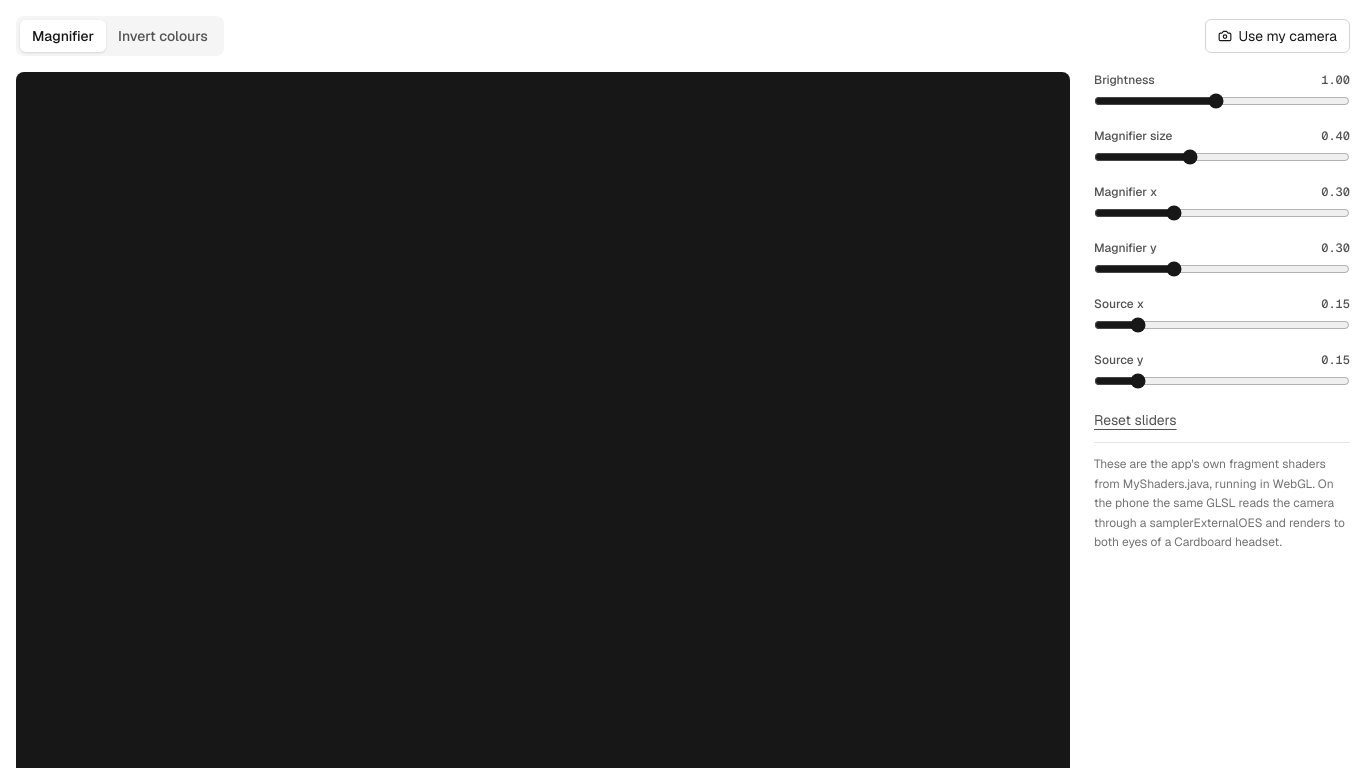
Test: VRVisionDemo › falls back to the sample image when permission is declined
Click the button "Use my camera". click: (1278, 36)
box: [1206,19,1350,53]
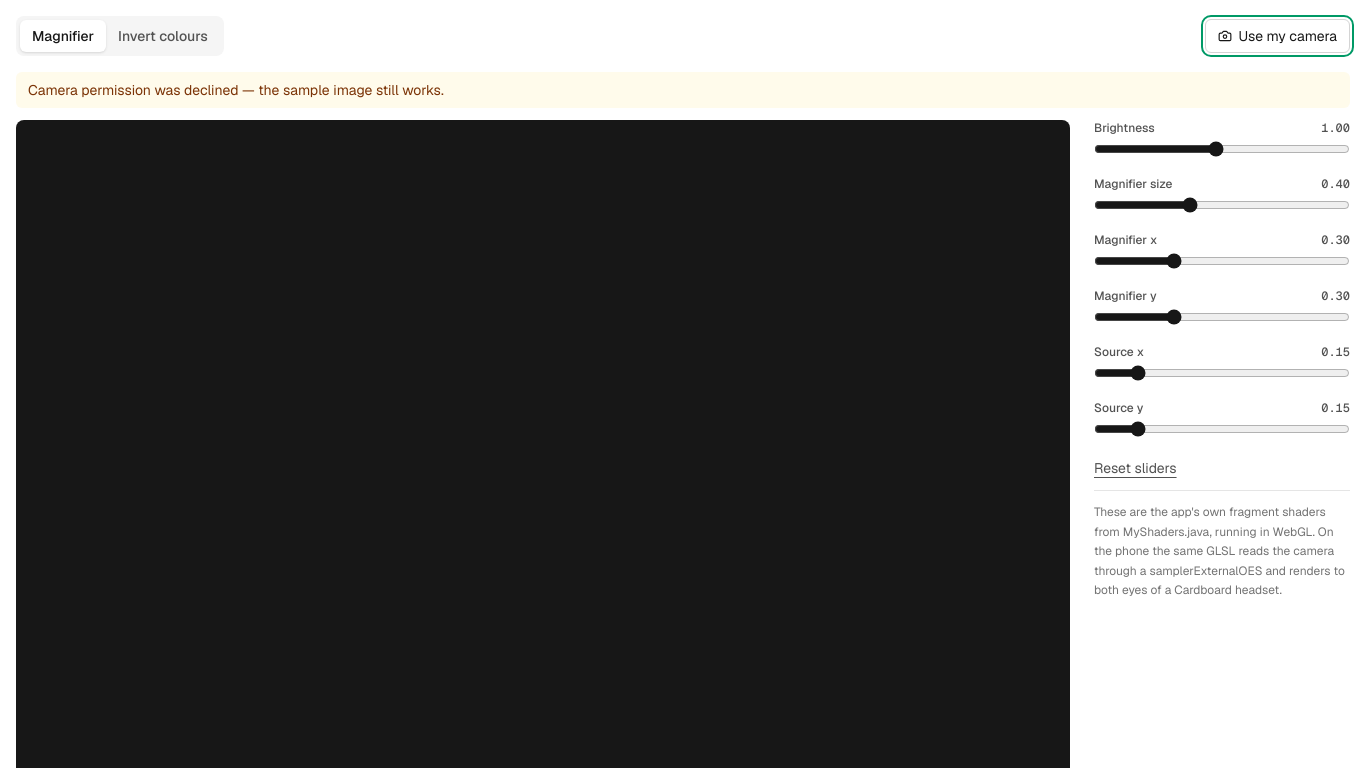
Check: the slider labelled "Magnifier size 0.40" is shown, box [1094,197,1350,213]
Check: the text "permission was declined" is shown, box [28,81,444,99]
